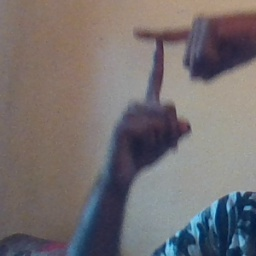T: (116, 11, 202, 118)
